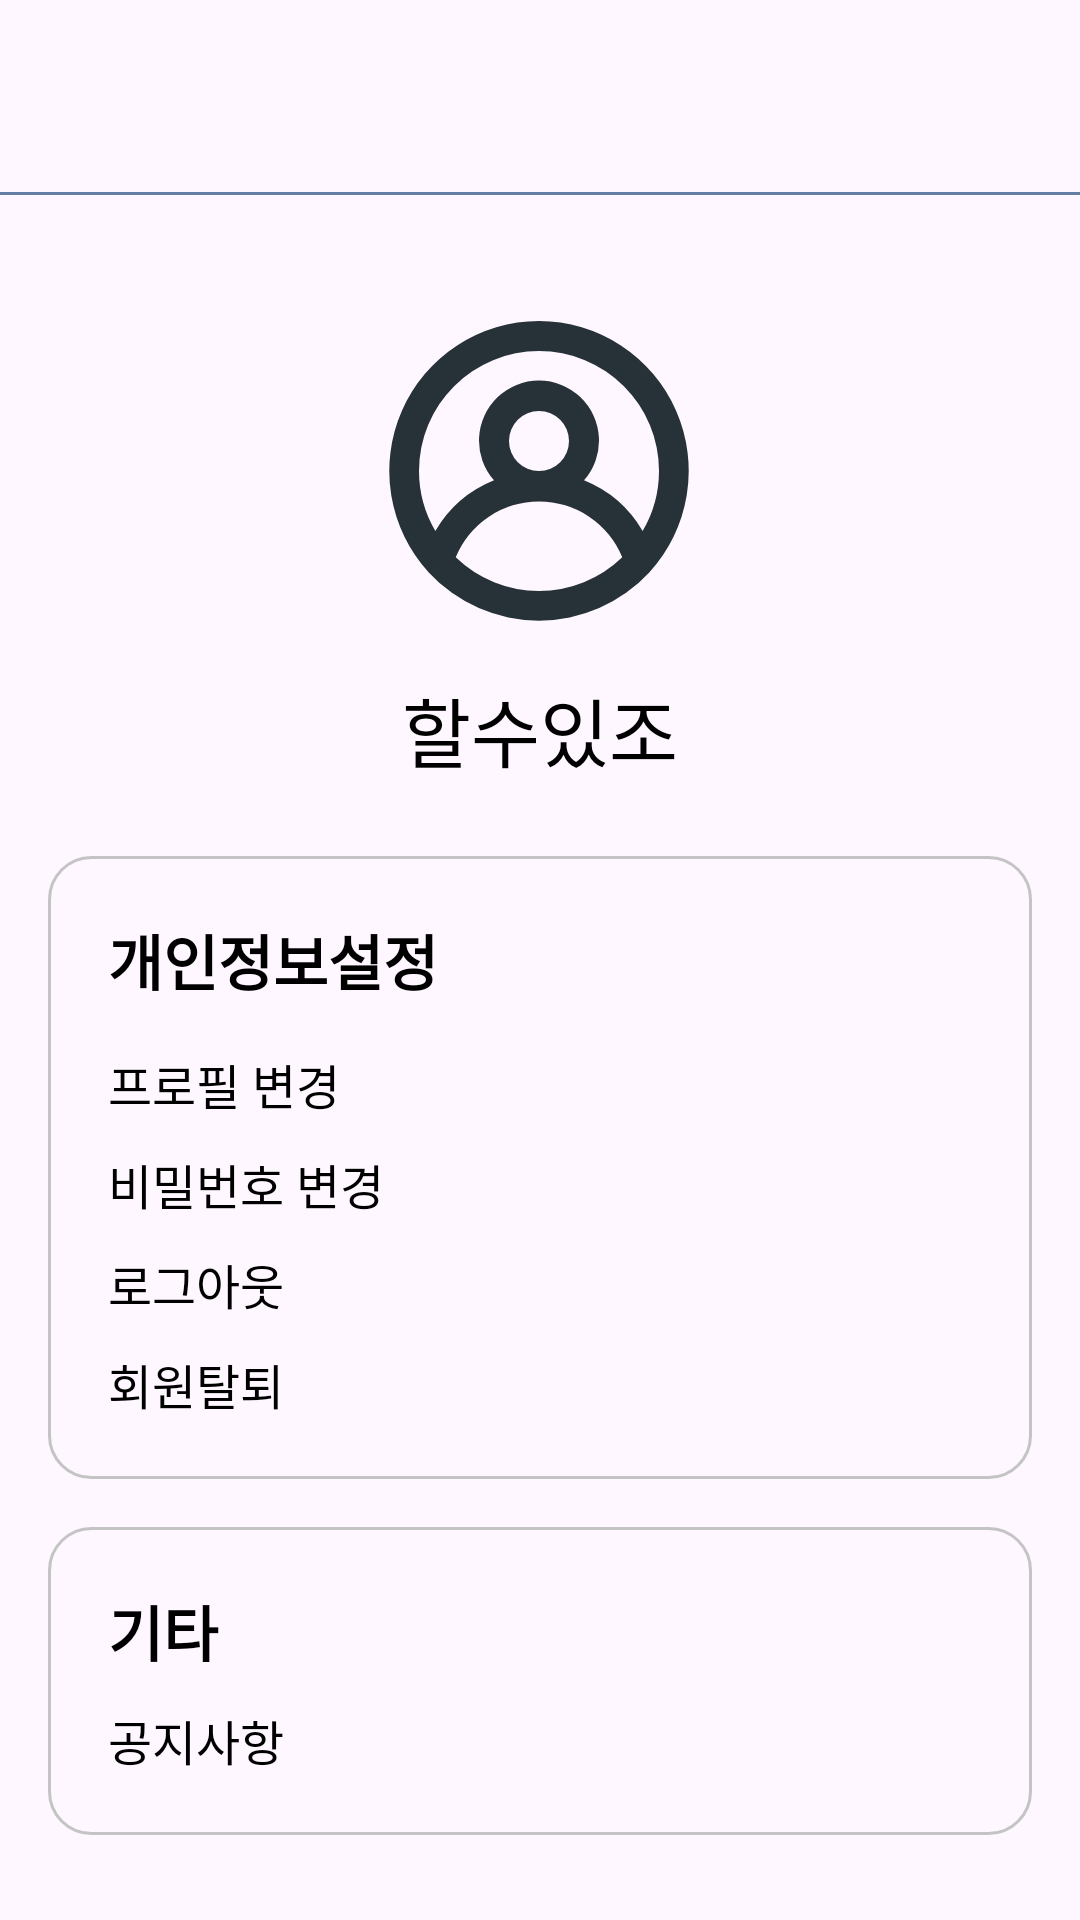

Icon bounding boxes for this 1080x1920 phone screenshot, format (x1, y1, x2, y2):
user circle: (389, 321, 689, 621)
